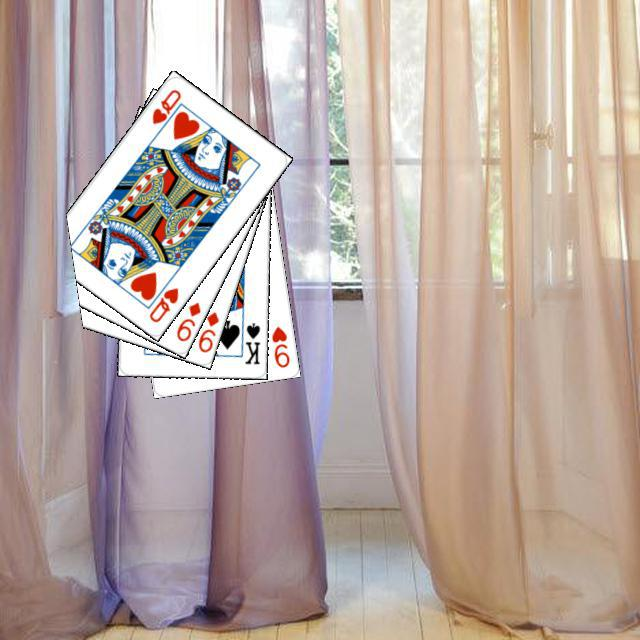9d: (171, 297, 203, 343), (193, 306, 221, 354)
9h: (267, 321, 291, 369)
Ks: (240, 318, 262, 366)
Qh: (147, 84, 184, 136), (144, 282, 180, 324)
